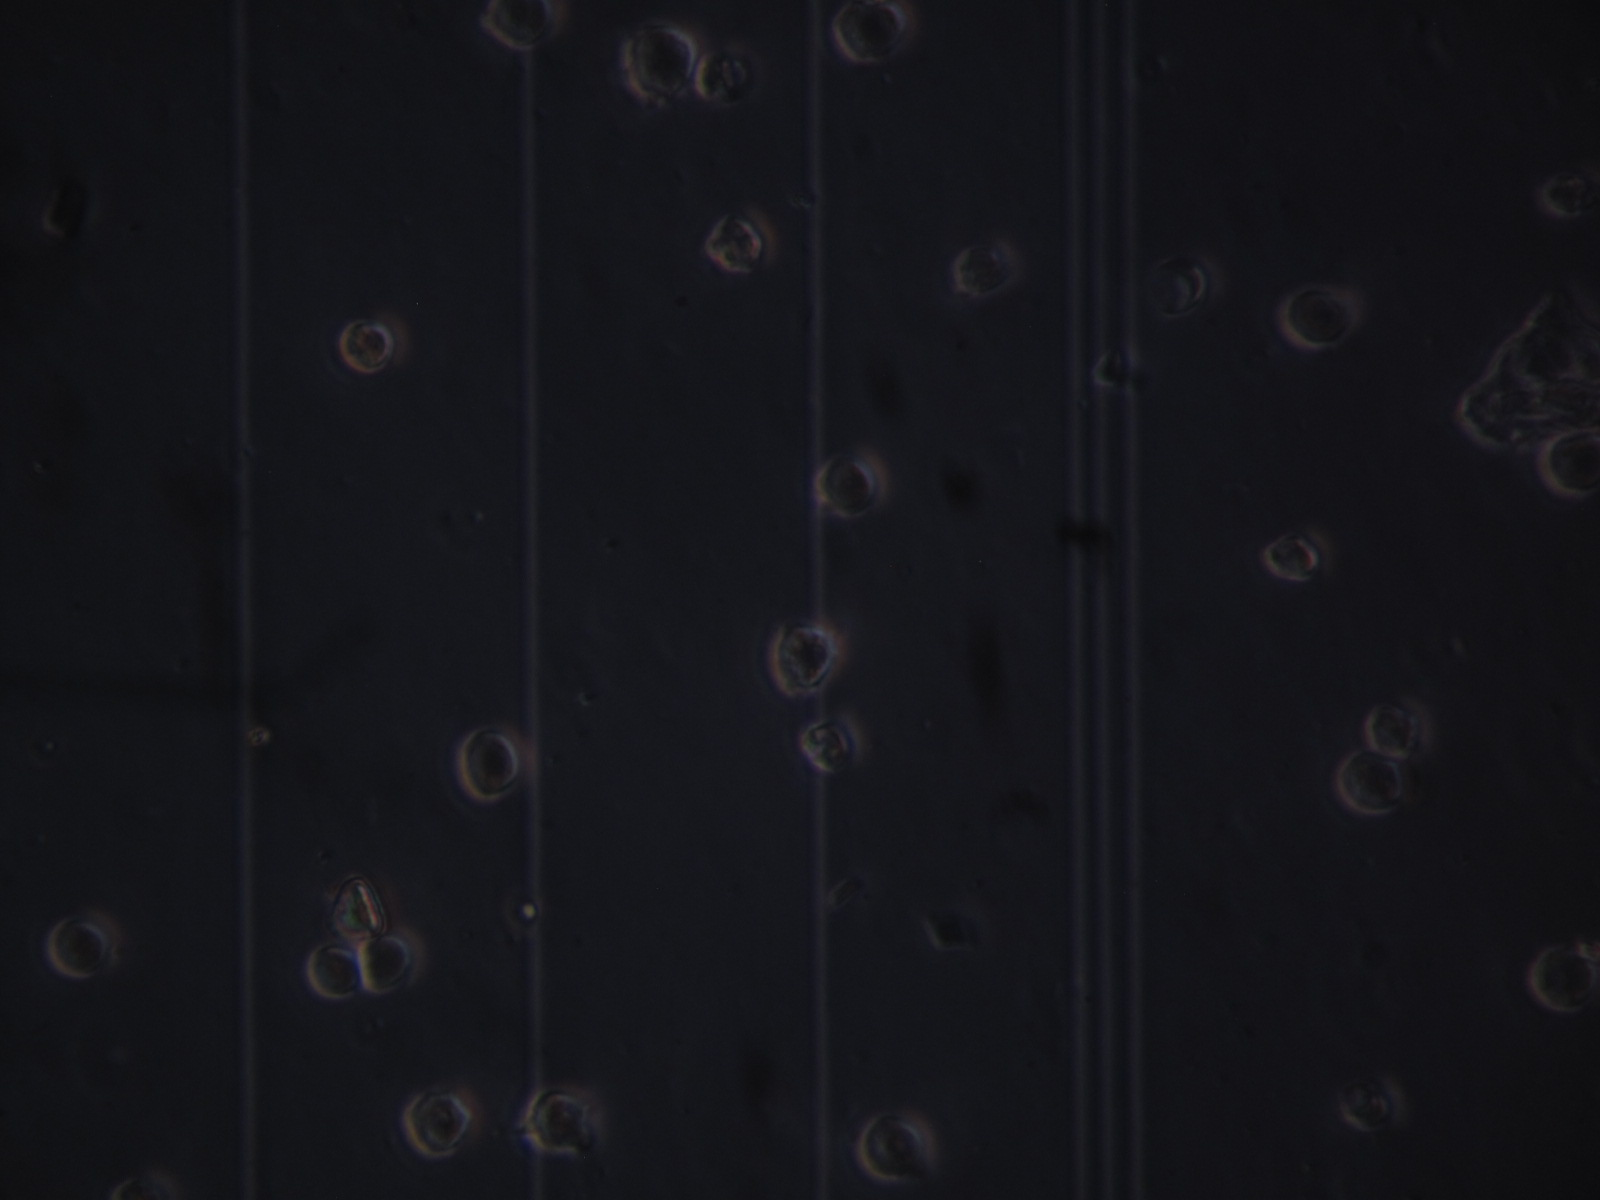hemo: (767, 620, 843, 697), (1276, 284, 1359, 352), (624, 25, 695, 103), (857, 1111, 934, 1182), (460, 724, 525, 805), (399, 1088, 475, 1158), (1528, 943, 1599, 1016), (336, 306, 409, 376), (706, 204, 774, 279), (525, 1090, 602, 1156), (813, 450, 886, 518), (48, 913, 121, 979), (1362, 695, 1432, 763), (1335, 750, 1403, 821), (831, 1, 906, 64), (1537, 429, 1600, 500), (357, 926, 421, 989), (797, 711, 863, 773), (1338, 1071, 1403, 1132), (480, 1, 558, 52), (1264, 528, 1332, 584), (956, 238, 1015, 297), (306, 945, 364, 1003), (1540, 173, 1600, 219)
